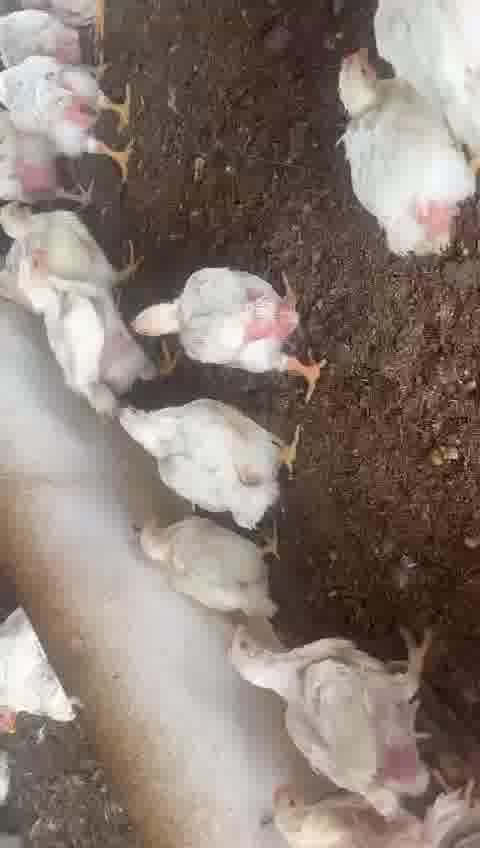AbNormal: (118, 487, 280, 626), (234, 758, 380, 848)
Normal: (221, 625, 437, 804), (302, 50, 480, 262), (110, 390, 317, 520), (16, 250, 158, 403), (0, 60, 157, 172), (127, 293, 331, 377), (0, 189, 147, 276), (0, 140, 107, 206)
